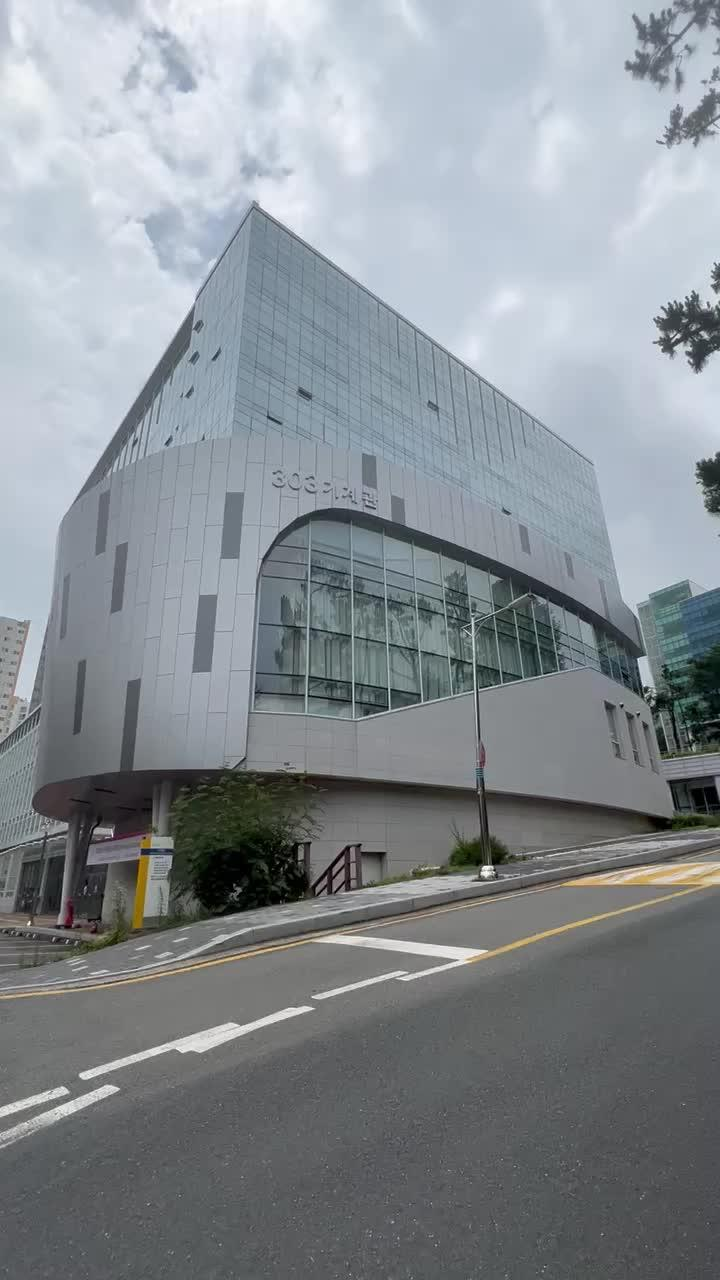building: (78, 248, 626, 792)
